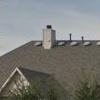Chimney: (34, 13, 58, 54)
